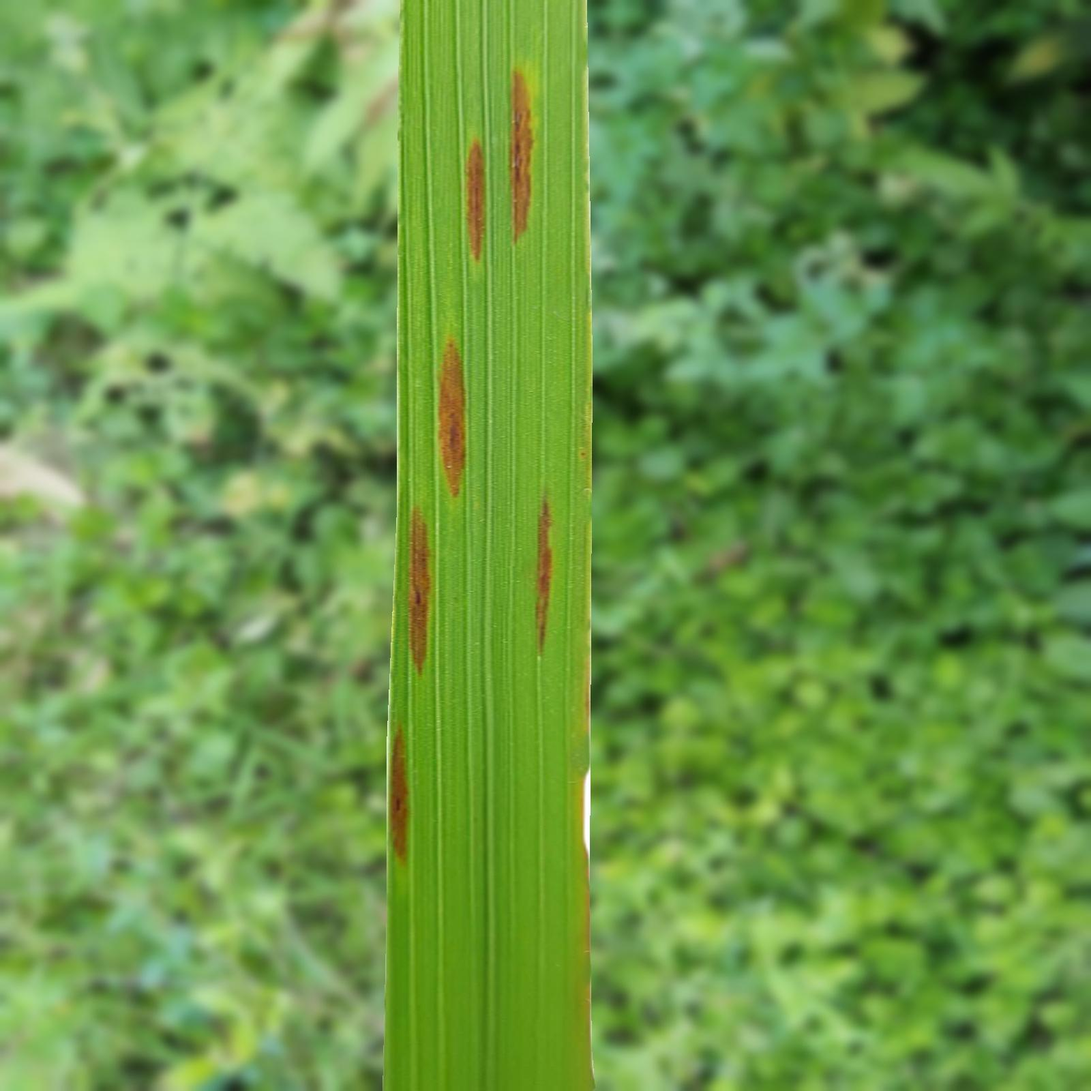LEAF: (383, 0, 595, 1090)
NBS: (437, 333, 468, 500), (510, 67, 537, 251), (409, 502, 436, 678), (535, 493, 555, 657), (389, 721, 411, 870), (466, 134, 487, 282)
